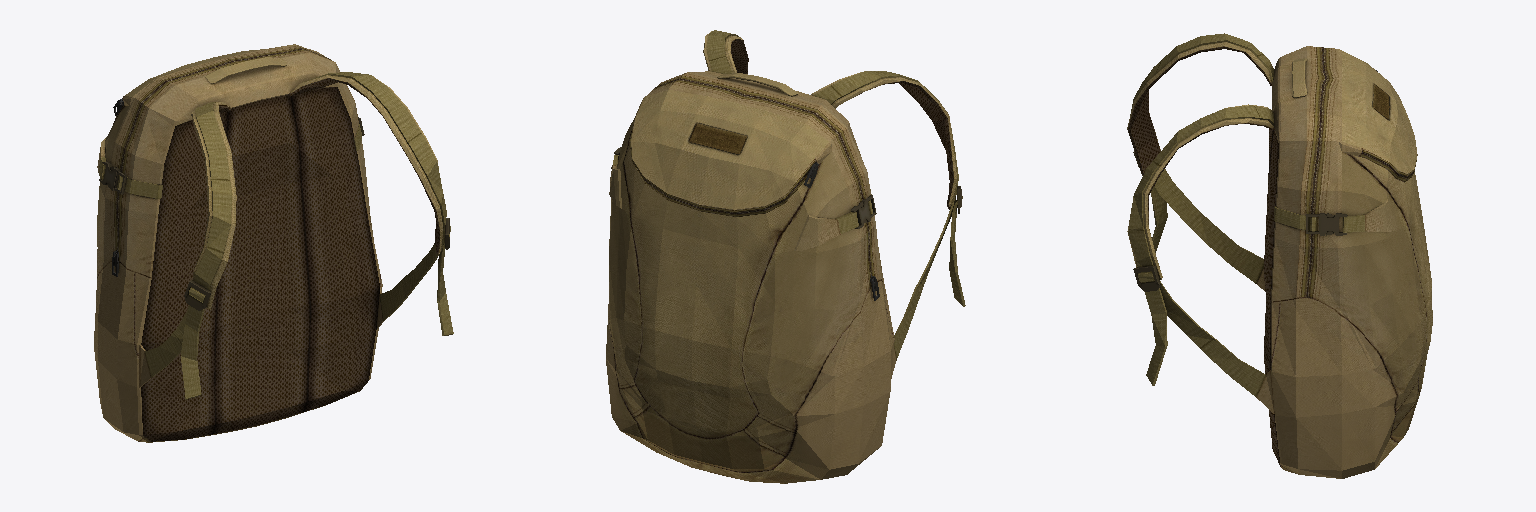
3 views of the same model, side by side, from view 1: azimuth 30°, elevation 25°; view 2: azimuth 150°, elevation 25°; view 3: azimuth 270°, elevation 25° (orthographic).
Parts seen in each view (by area): view 1: 1106_BACKPACK; view 2: 1106_BACKPACK; view 3: 1106_BACKPACK.
Boxes of the visible parts, x1,y1,x2,y2 form: 1106_BACKPACK: [94, 44, 453, 442]; 1106_BACKPACK: [606, 30, 965, 483]; 1106_BACKPACK: [1127, 33, 1432, 478].
Size of the model in its own units: 32.51 by 43.02 by 32.07.
3 materials, 1 textured.